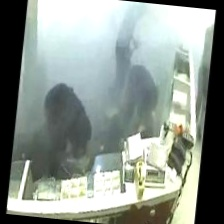smoke: (36, 0, 192, 149)
